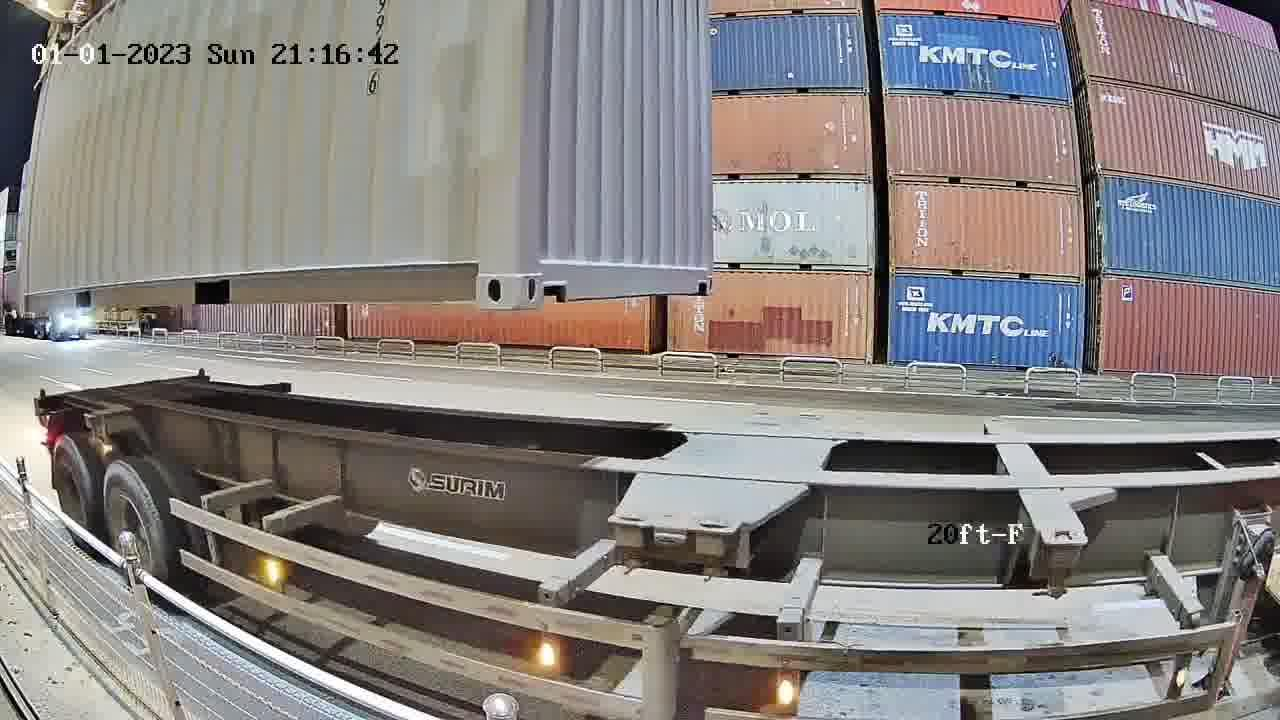Cone: (610, 510, 649, 575)
Hole_L: (518, 236, 584, 306)
Hole_R: (446, 239, 518, 308)
Tire: (104, 463, 168, 571), (51, 438, 97, 527)
